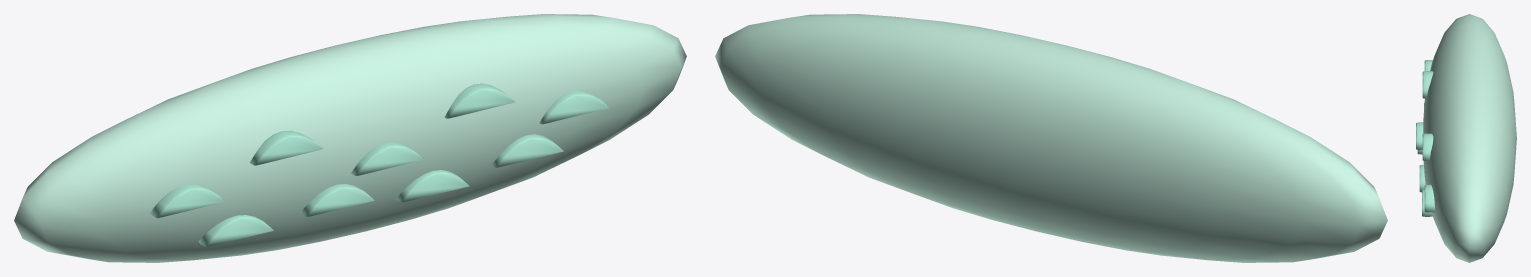
The model's file is decor_5_mint.glb.
The picture shows the model from 3 angles, left to right: view 1: azimuth 30°, elevation 25°; view 2: azimuth 150°, elevation 25°; view 3: azimuth 270°, elevation 25°; orthographic projection. The views are drawn at different scales.
Visible parts, largest first — view 1: decor_5_mint; view 2: decor_5_mint; view 3: decor_5_mint.
Boxes of the visible parts, x1=… form: decor_5_mint: x1=14, y1=14, x2=686, y2=262; decor_5_mint: x1=715, y1=14, x2=1387, y2=262; decor_5_mint: x1=1416, y1=14, x2=1516, y2=262.
Bounding box in the file's own units: 14 × 3.6 × 2.73.
